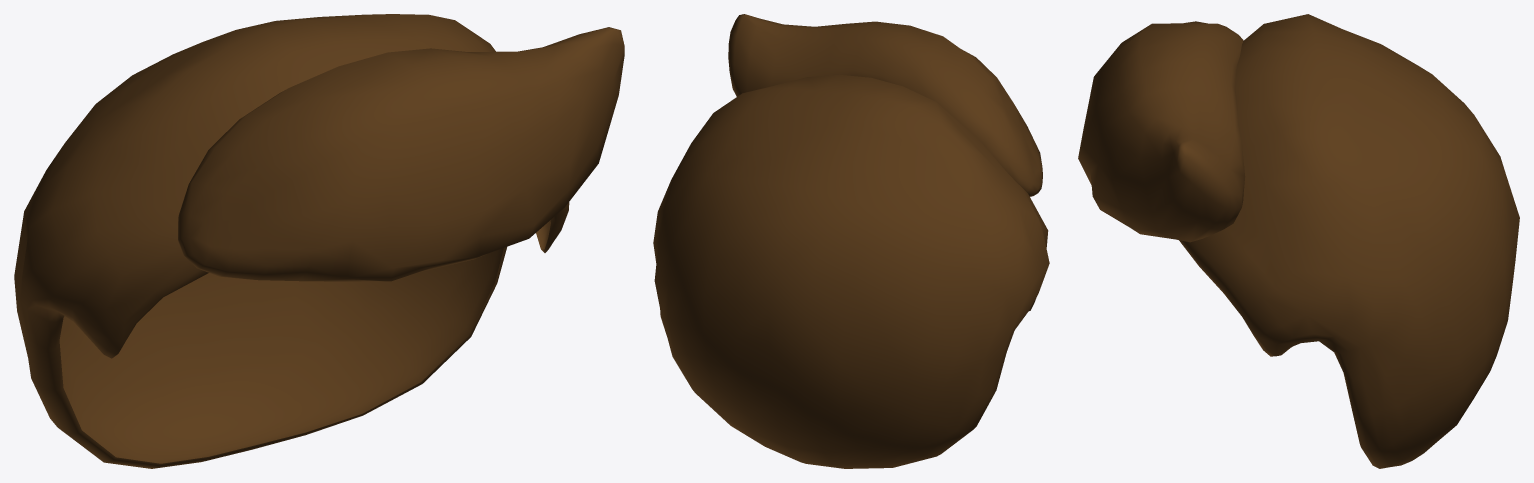
File: hair 02.fbx
3 views of the same model, side by side, from view 1: azimuth 30°, elevation 25°; view 2: azimuth 150°, elevation 25°; view 3: azimuth 270°, elevation 25° (orthographic). The views are drawn at different scales.
Parts seen in each view (by area): view 1: hair_4:polySurface2; view 2: hair_4:polySurface2; view 3: hair_4:polySurface2.
Part boxes in pixels (x1,y1,x2,y2): hair_4:polySurface2: [14, 14, 624, 468]; hair_4:polySurface2: [653, 14, 1049, 468]; hair_4:polySurface2: [1078, 14, 1519, 468].
Bounding box in the file's own units: 0.953 × 0.8688 × 0.8618.
